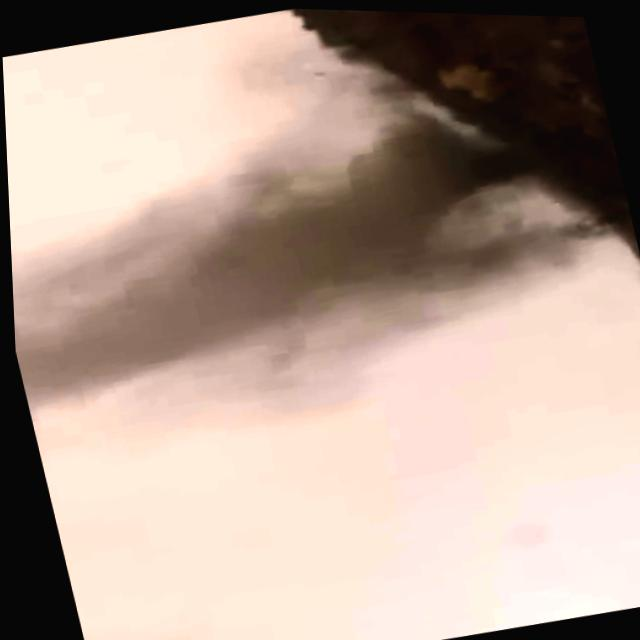smoke: (4, 102, 542, 472)
